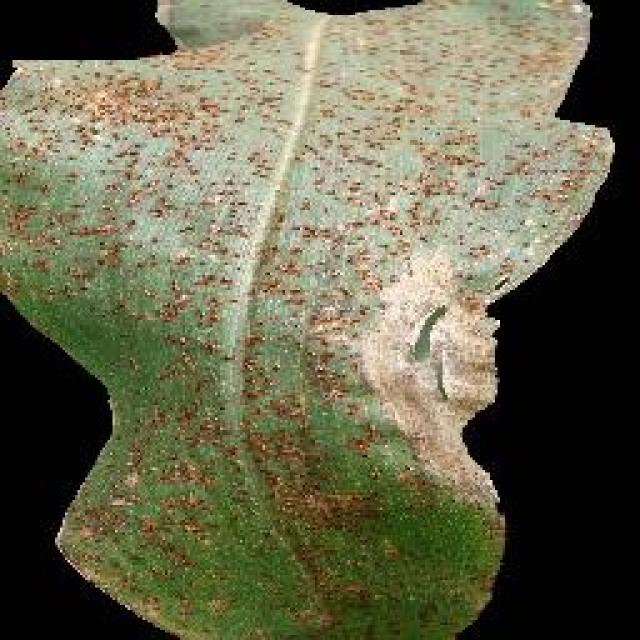Corn Common Rust: (22, 71, 518, 556)
